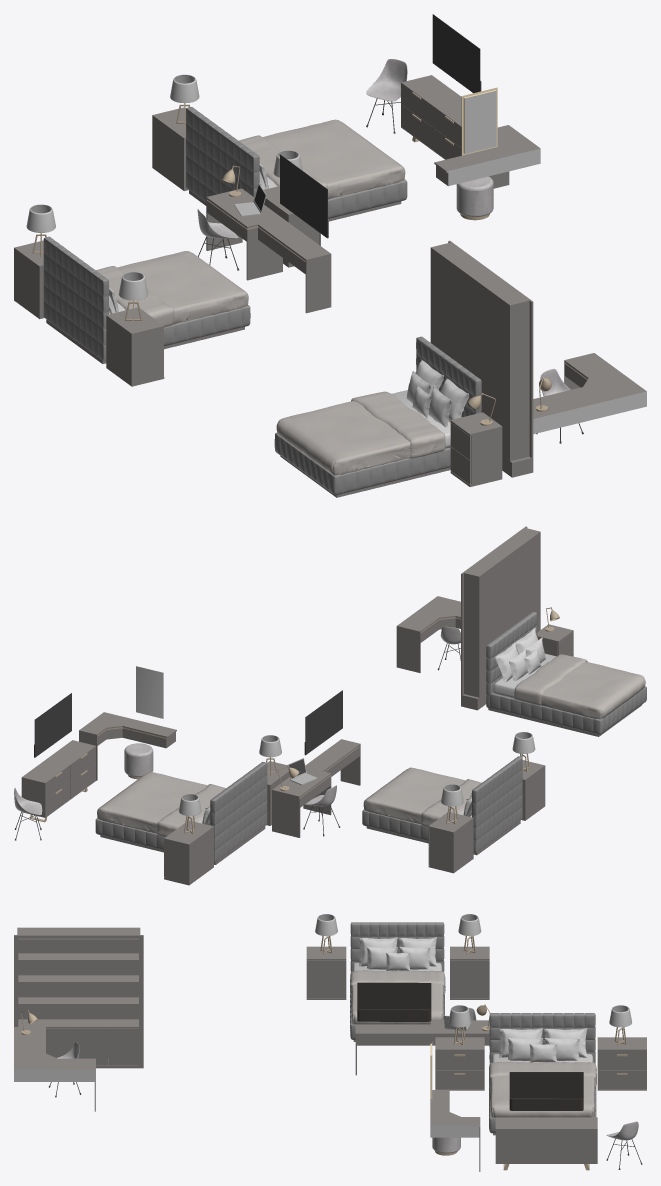
Rendered from TrueVision_-_Testing3D_-_PatterdaleCloseModel_-_FF_FurnishingsModel.glb.
The picture shows the model from 3 angles, top to bottom: view 1: azimuth 30°, elevation 25°; view 2: azimuth 150°, elevation 25°; view 3: azimuth 270°, elevation 25°; orthographic projection. The views are drawn at different scales.
Visible parts, largest first — view 1: root; view 2: root; view 3: root.
Boxes of the visible parts, box(x1,y1,x2,y2) form: root: box(14, 14, 646, 497); root: box(14, 526, 646, 885); root: box(14, 914, 646, 1171).
Size of the model in its own units: 6.89 by 2.3 by 9.94.
13 materials, 2 textured.
